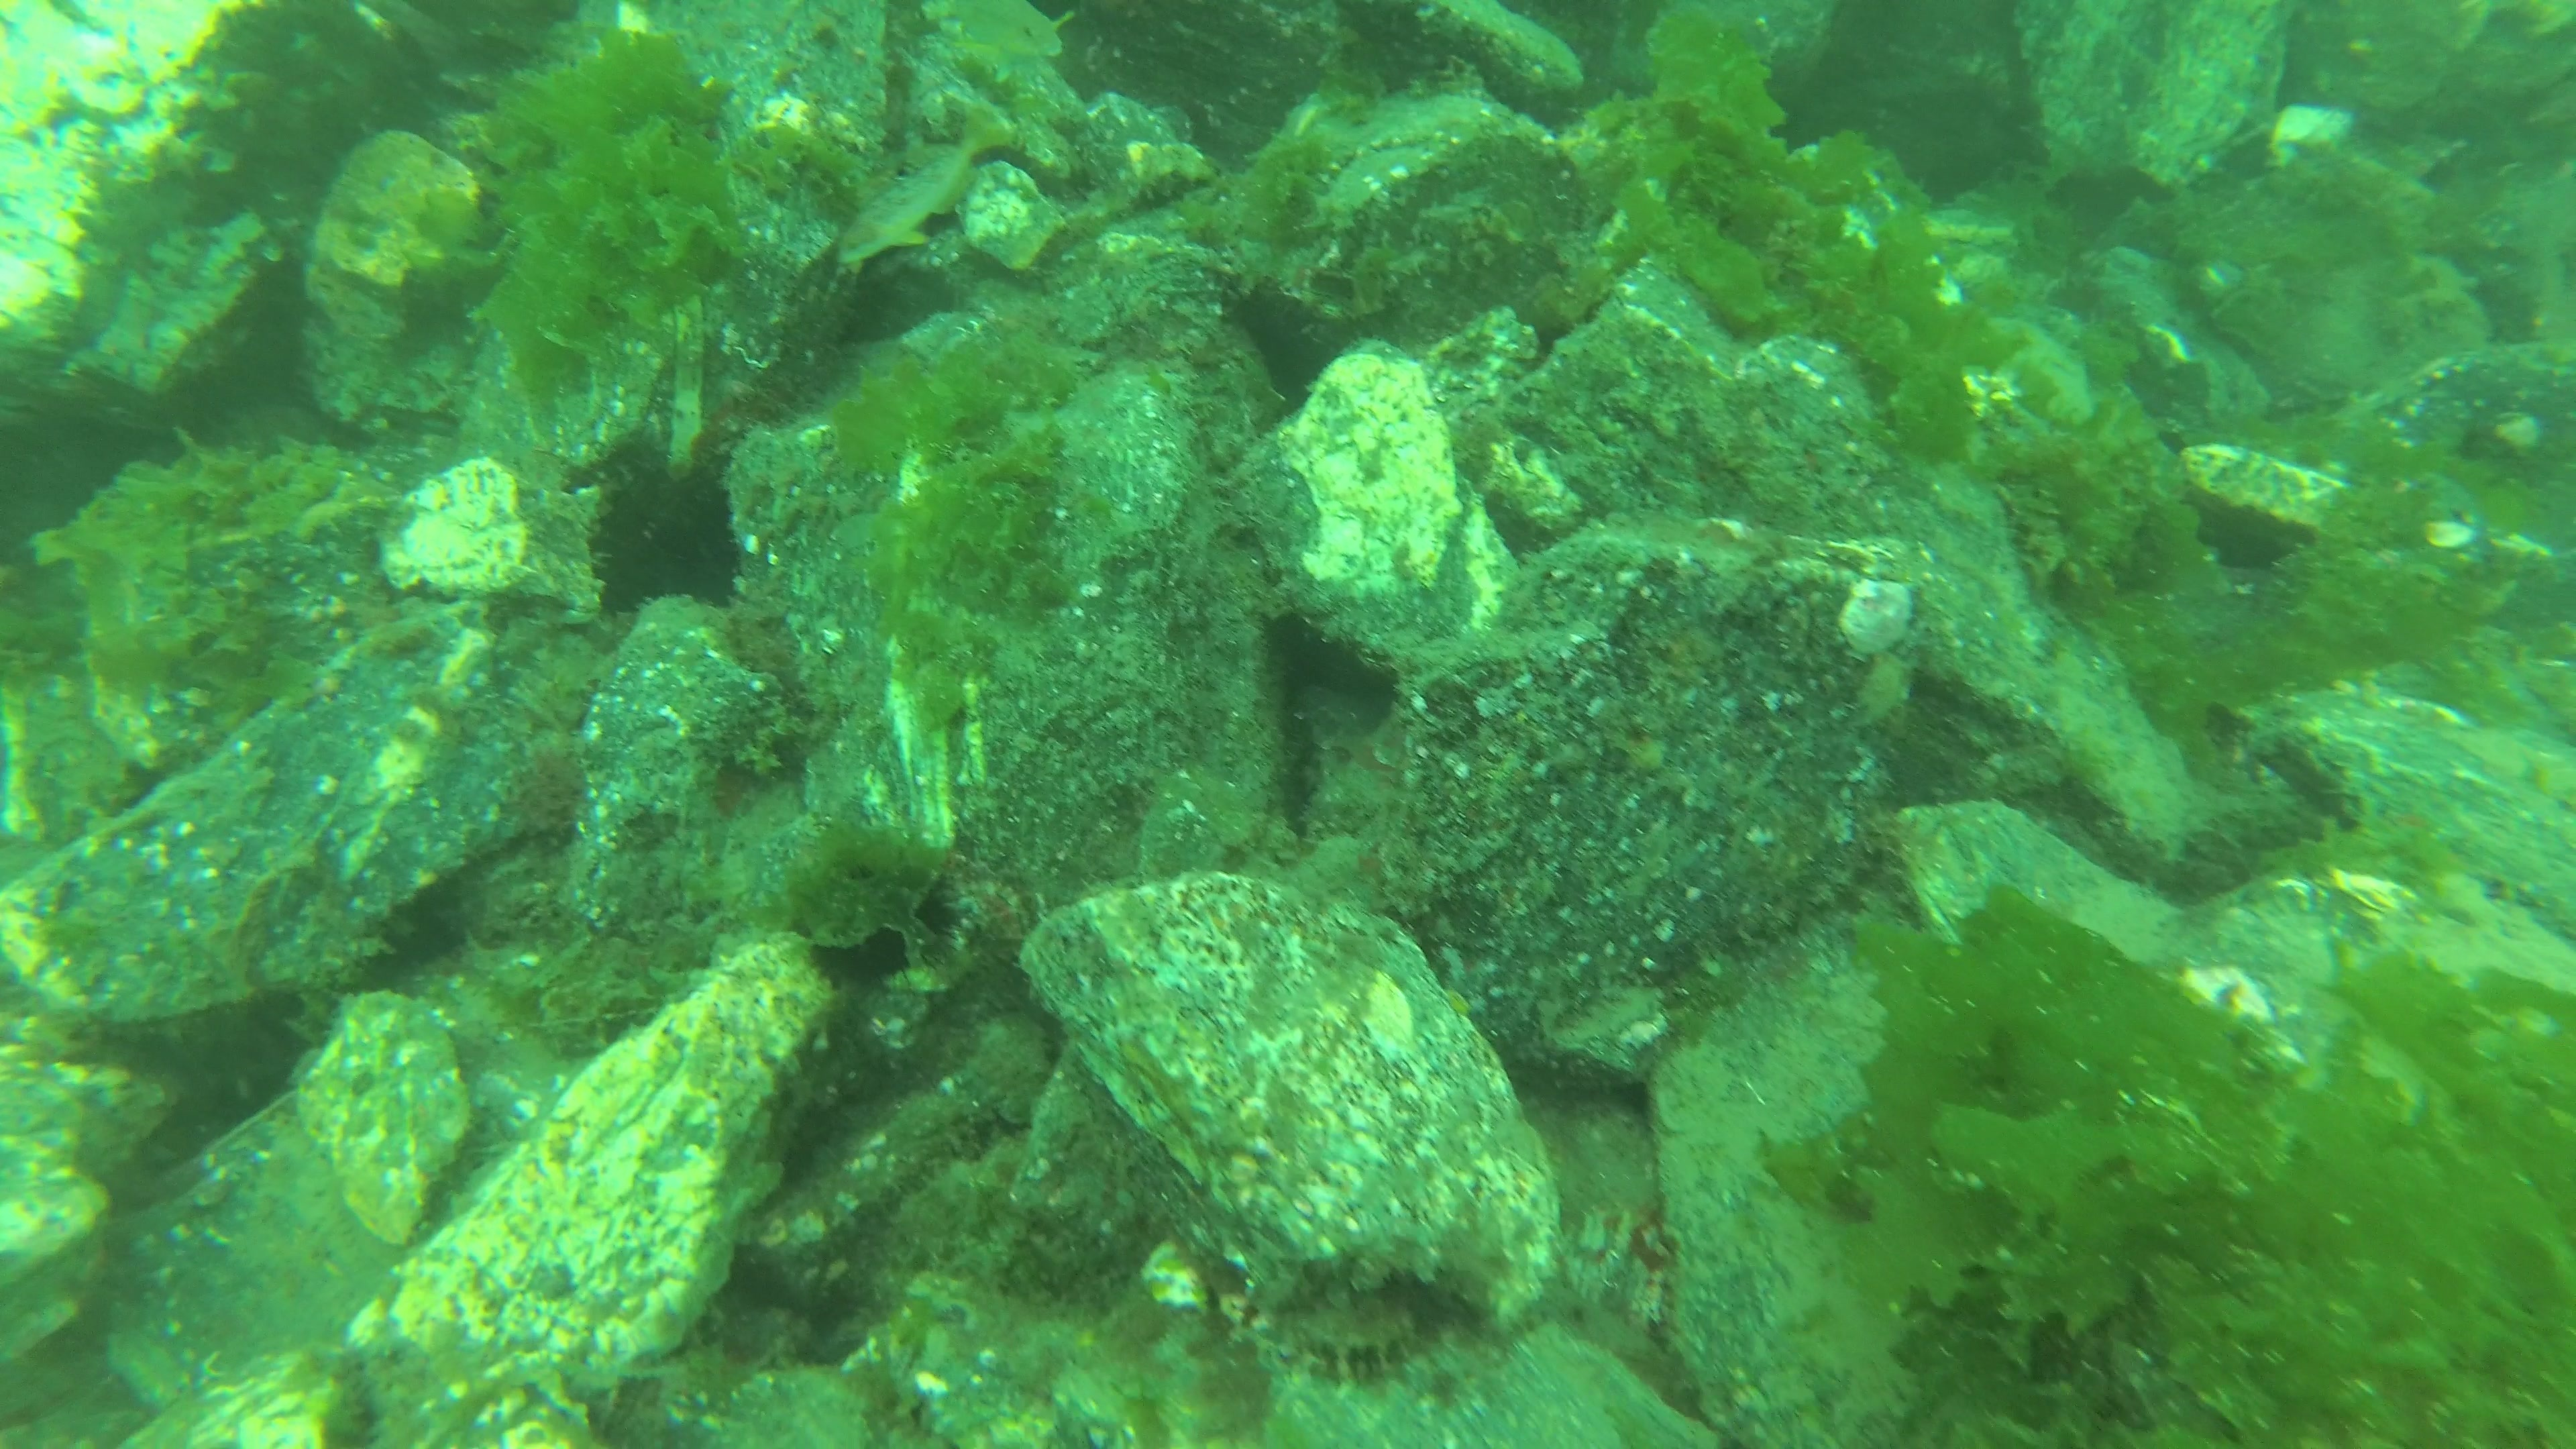echinus: (801, 872, 971, 991)
